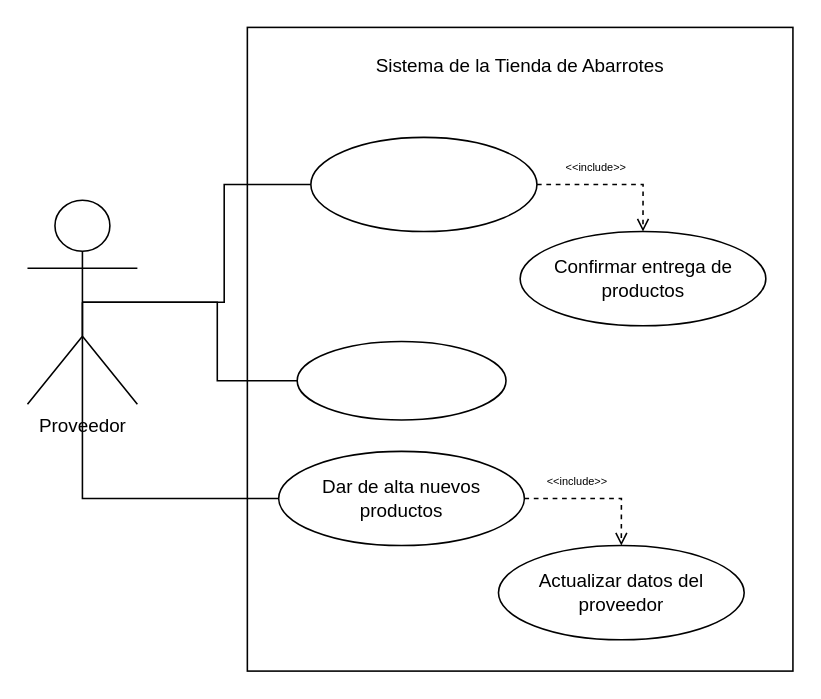
Some shapes in this 821 by 699 pixel diagram are drawn without their labels. Here are the shapes that lost their labels. From the top down, the box of each, then its label:
(309, 136, 537, 232): Llevar más productos
(296, 340, 506, 420): Cobrar productos
